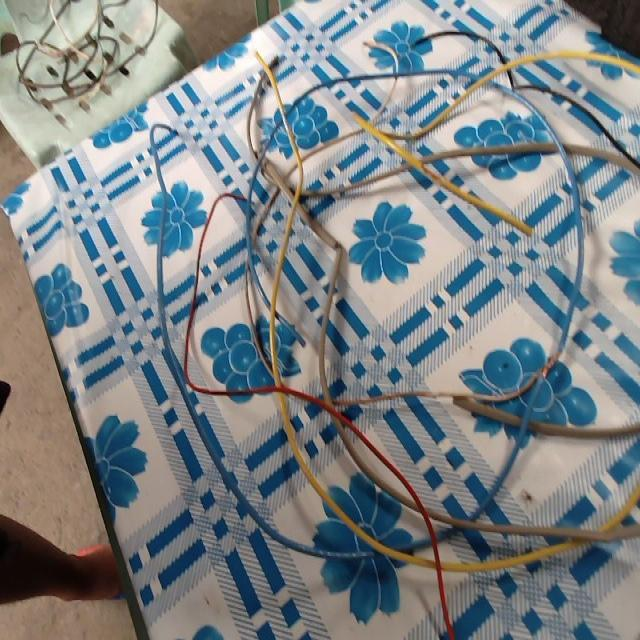-: (416, 158, 445, 190), (540, 346, 562, 382), (328, 236, 348, 259)
